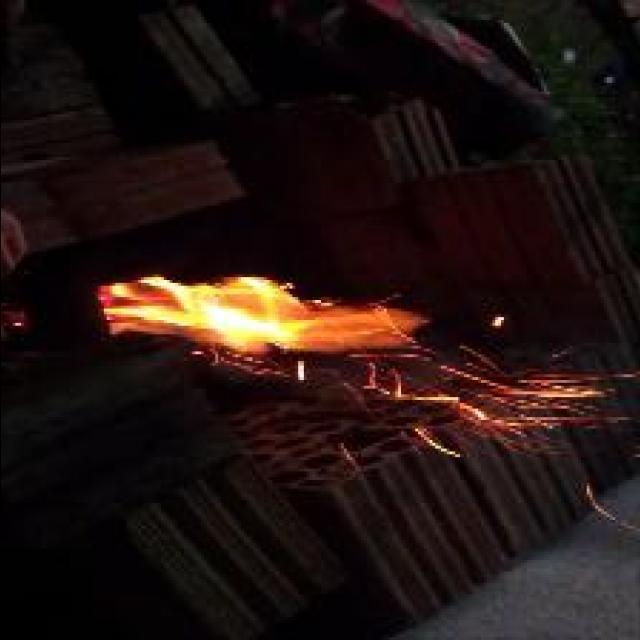Fire: (100, 276, 426, 356)
